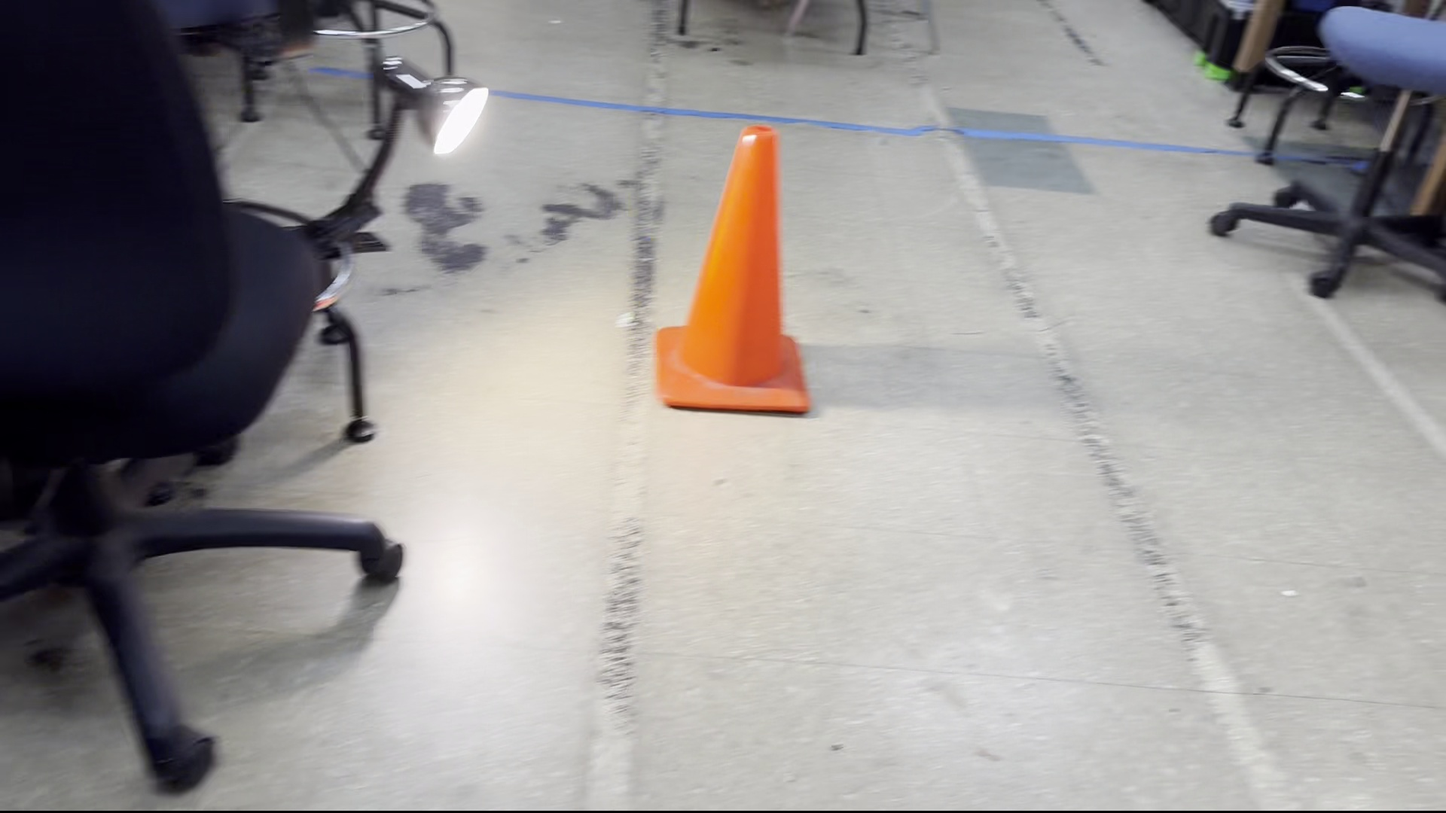traffic_cone: (654, 123, 812, 415)
